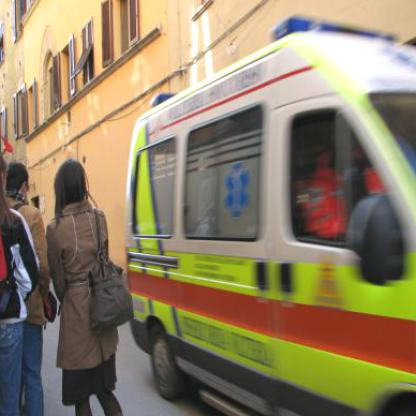truck: (123, 14, 415, 415)
